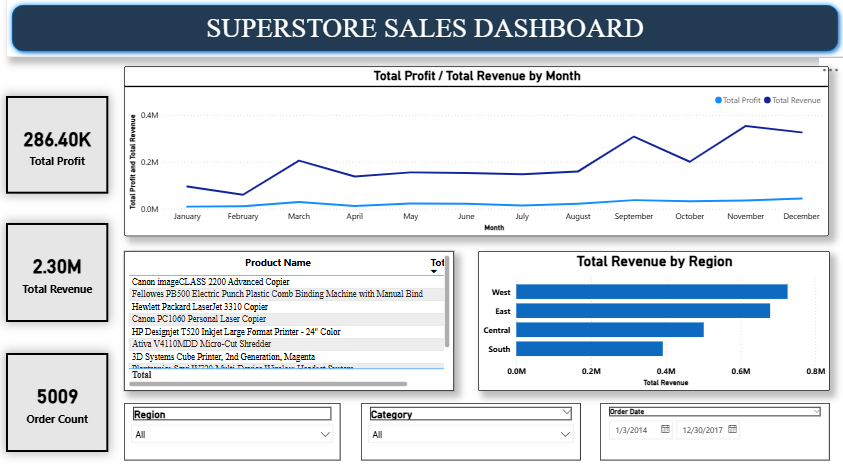

Layout of this report page (visuals, bound fields, positions):
{"tool":"powerbi","page":{"name":"Page 1","canvas":[1280,720],"ordinal":0},"visuals":[{"type":"shape","box":[10,0,1270,88.3],"z":0},{"type":"card","fields":{"Values":["Sample - Superstore.Total Profit"]},"box":[10,146.7,155,148.3],"z":1000},{"type":"card","fields":{"Values":["Sample - Superstore.Total Revenue"]},"box":[10,340,155,150],"z":2000},{"type":"card","fields":{"Values":["Sample - Superstore.Order Count"]},"box":[10,536.7,155,150],"z":3000},{"type":"lineChart","title":"Total Profit / Total Revenue by Month","fields":{"Category":["Sample - Superstore.Order Date.Variation.Date Hierarchy.Month"],"Y":["Sample - Superstore.Total Profit","Sample - Superstore.Total Revenue"]},"box":[190,101.7,1068.3,258.3],"z":4000},{"type":"clusteredBarChart","fields":{"Category":["Sample - Superstore.Region"],"Y":["Sample - Superstore.Total Revenue"]},"box":[725,381.7,533.3,211.7],"z":5000},{"type":"tableEx","fields":{"Values":["Sample - Superstore.Product Name","Sample - Superstore.Total Profit"]},"box":[190,381.7,500,211.7],"z":6000},{"type":"slicer","fields":{"Values":["Sample - Superstore.Region"]},"box":[190,611.7,328.3,86.7],"z":7000},{"type":"slicer","fields":{"Values":["Sample - Superstore.Category"]},"box":[548.3,611.7,333.3,86.7],"z":8000},{"type":"slicer","fields":{"Values":["Sample - Superstore.Order Date"]},"box":[910,611.7,348.3,86.7],"z":9000}]}

Visuals, with their boxes in screenshot pixels (x1, y1, x2, y2), scaled from the page's 1280x720 canvas onto the 843x473 screenshot:
shape: locate(7, 0, 842, 58)
card - Sample - Superstore.Total Profit: locate(7, 96, 109, 194)
card - Sample - Superstore.Total Revenue: locate(7, 223, 109, 322)
card - Sample - Superstore.Order Count: locate(7, 353, 109, 451)
"Total Profit / Total Revenue by Month" lineChart: locate(125, 67, 829, 236)
clusteredBarChart - Sample - Superstore.Region x Sample - Superstore.Total Revenue: locate(477, 251, 829, 390)
tableEx - Sample - Superstore.Product Name x Sample - Superstore.Total Profit: locate(125, 251, 454, 390)
slicer - Sample - Superstore.Region: locate(125, 402, 341, 459)
slicer - Sample - Superstore.Category: locate(361, 402, 581, 459)
slicer - Sample - Superstore.Order Date: locate(599, 402, 829, 459)
